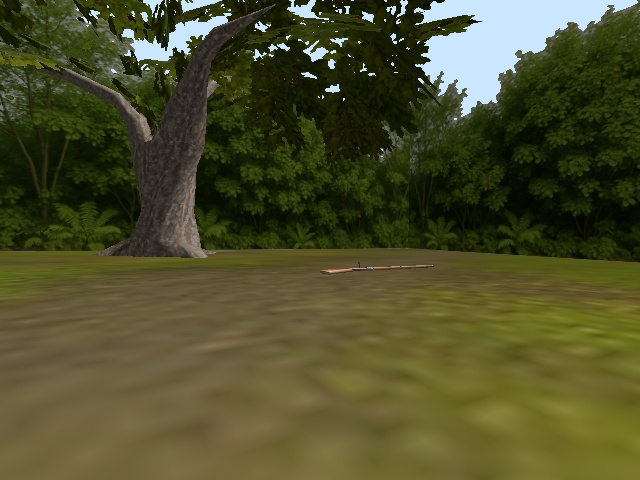rifle: (319, 260, 438, 277)
